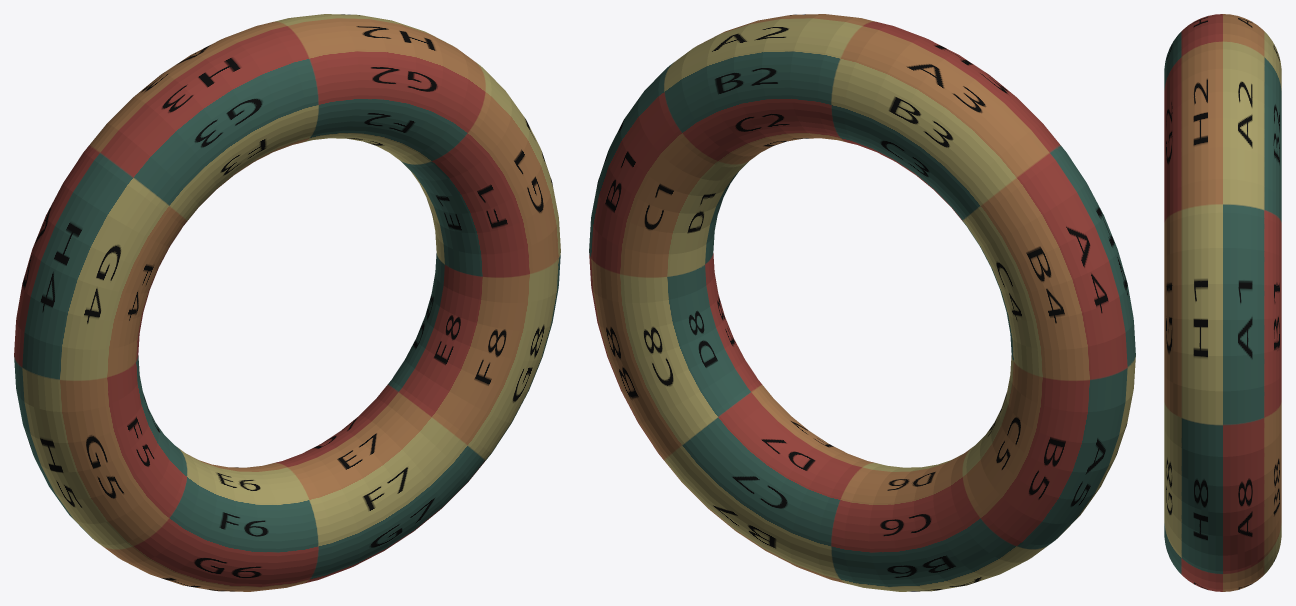
File: texture_torus_R25_r18.glb
The picture shows the model from 3 angles, left to right: view 1: azimuth 30°, elevation 25°; view 2: azimuth 150°, elevation 25°; view 3: azimuth 270°, elevation 25°; orthographic projection. The views are drawn at different scales.
Parts seen in each view (by area): view 1: world; view 2: world; view 3: world.
Boxes of the visible parts, x1=… form: world: x1=14, y1=14, x2=560, y2=591; world: x1=589, y1=14, x2=1135, y2=591; world: x1=1164, y1=14, x2=1281, y2=591.
Size of the model in its own units: 33.47 by 33.4 by 6.79.
Materials: 1 (1 with a texture image).
